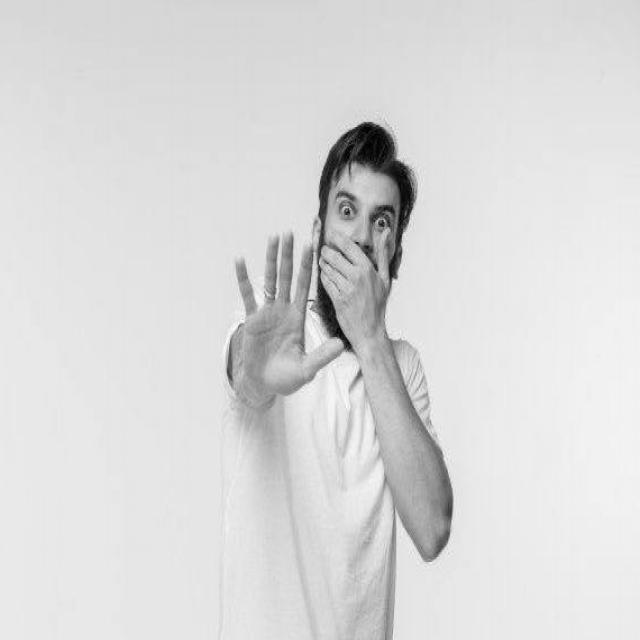stop: (231, 225, 346, 405)
